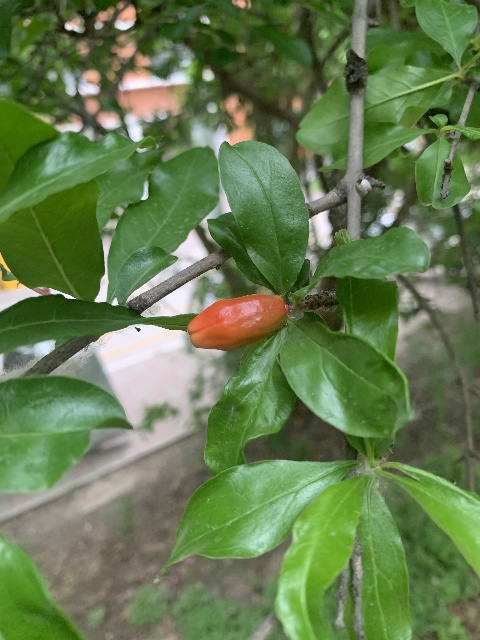bud: (186, 293, 287, 350)
